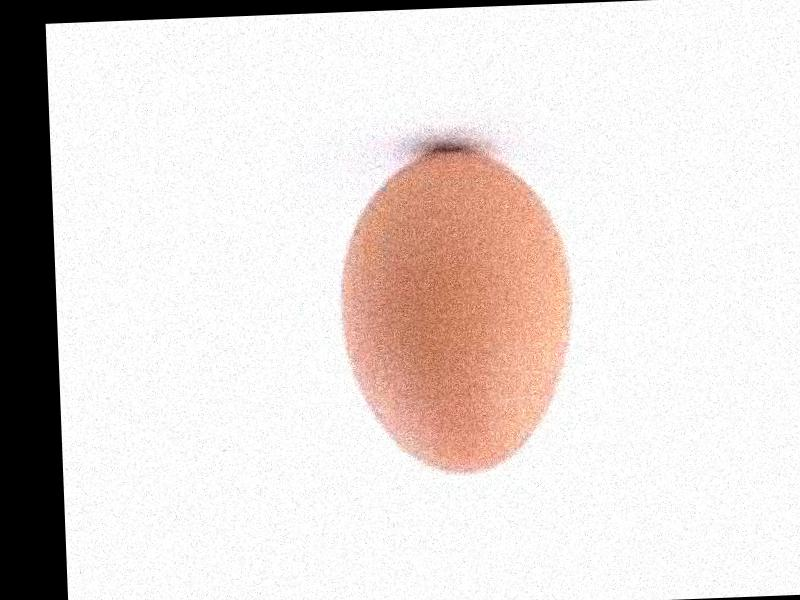Eggs: (332, 147, 577, 477)
